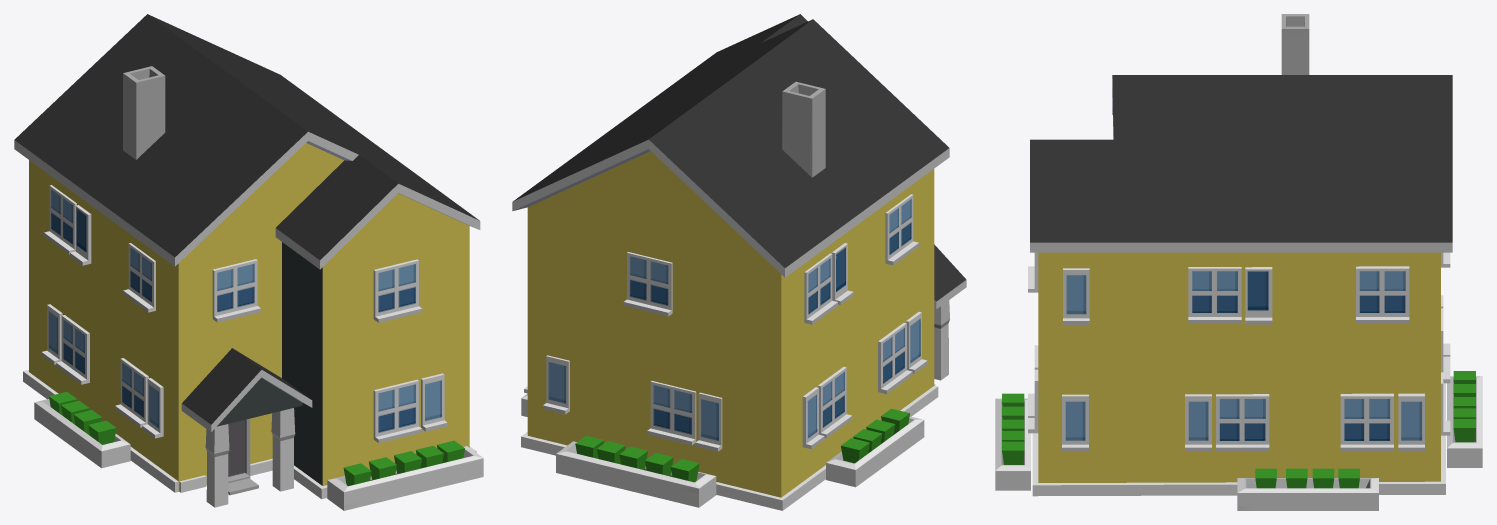
File: suburb_house__001.glb
3 renders of one model, left to right at view 1: azimuth 30°, elevation 25°; view 2: azimuth 150°, elevation 25°; view 3: azimuth 270°, elevation 25°, orthographic. The views are drawn at different scales.
Visible parts, largest first — view 1: Suburb House 1; view 2: Suburb House 1; view 3: Suburb House 1.
Part boxes in pixels (bbox=[...]): Suburb House 1: bbox=[14, 14, 483, 510]; Suburb House 1: bbox=[512, 14, 966, 510]; Suburb House 1: bbox=[995, 14, 1482, 510].
Bounding box in the file's own units: 1.01 × 1.06 × 1.27.
Materials: 1 (1 with a texture image).
